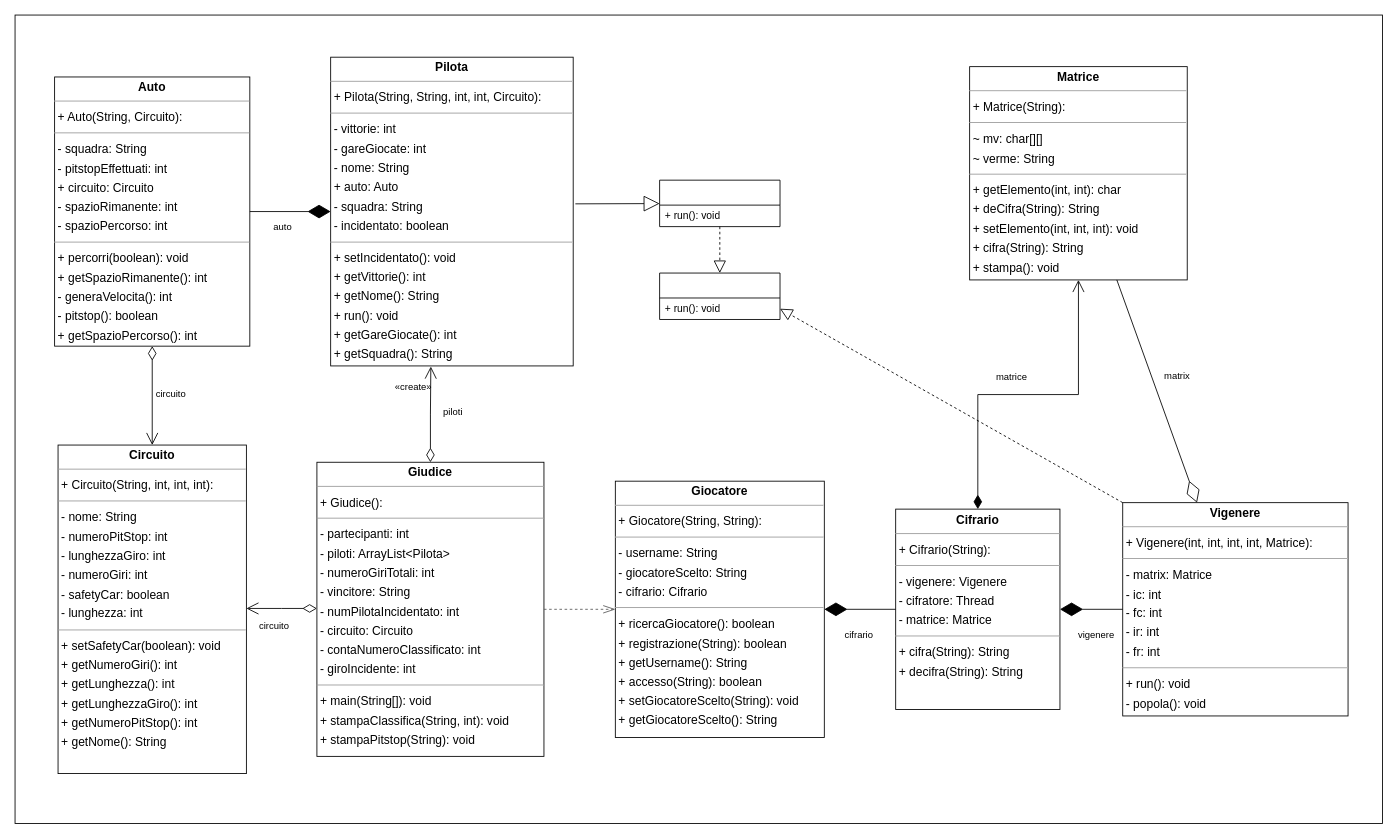
This 1398x839 diagram has some shape labels left out. The shapes that lost their labels are listed below. From the top down, each one's box as (x1, y1, x2, y2) in pixels, then its label:
(659, 179, 780, 227): Thread
(659, 272, 780, 319): << Runnable >>
